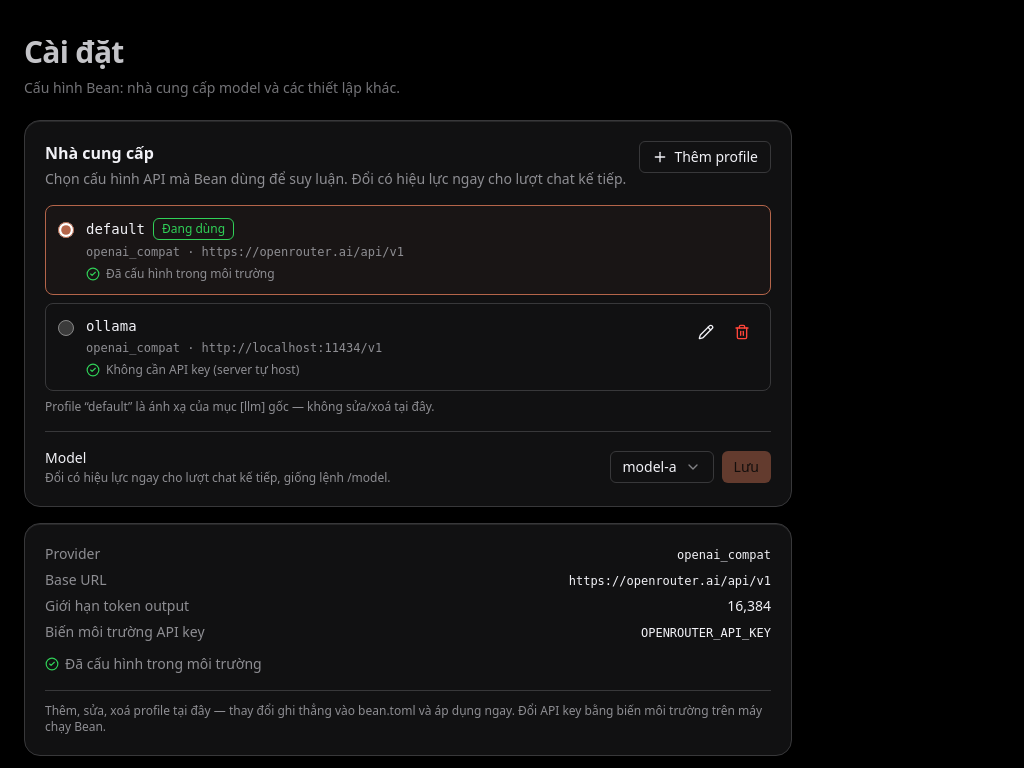
Test: SettingsPage — Providers CRUD › xoá profile đang active bị server chặn 409: alert lỗi, dialog vẫn mở
The width and height of the screenshot is (1024, 768).
Click the button named "Xoá profile". click: (742, 332)
box: [726, 316, 758, 348]
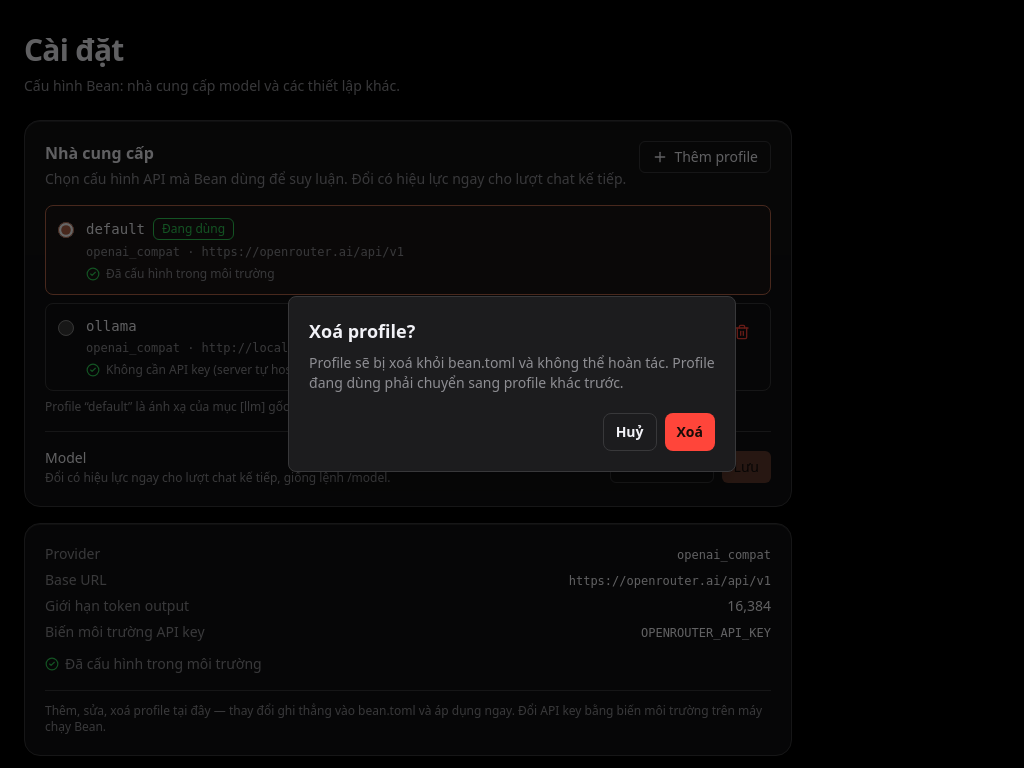
Click the button "Xoá". click: (690, 432)
box: [664, 413, 715, 451]
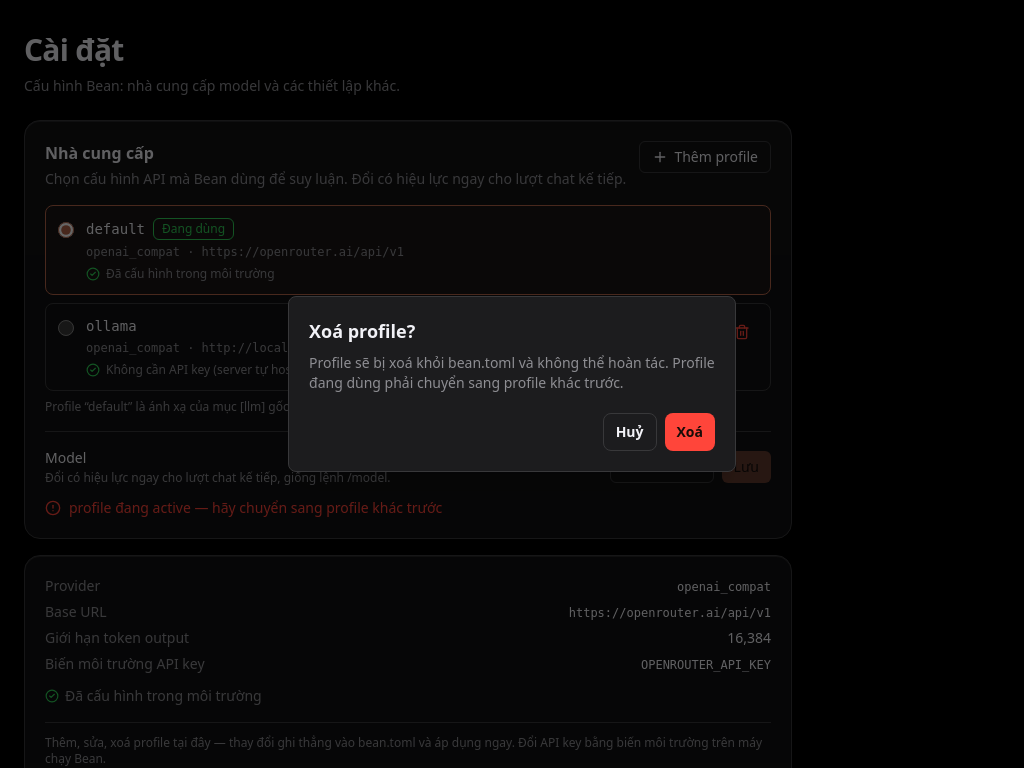
Check: the dialog is shown, box [288, 296, 736, 472]
Check: the message reads "profile đang active — hãy chuyển sang profile khác trước", box [69, 498, 442, 517]
